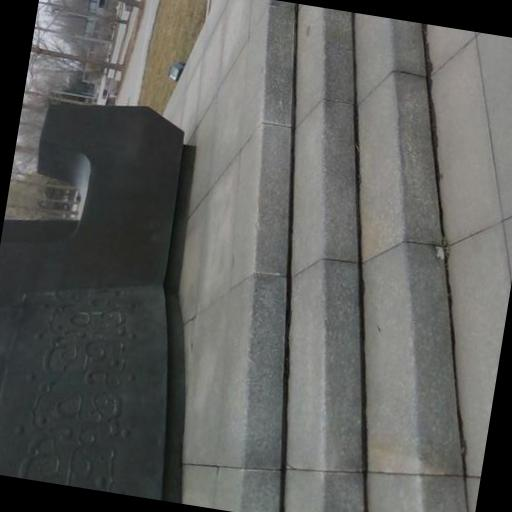stairs: (168, 0, 477, 511)
